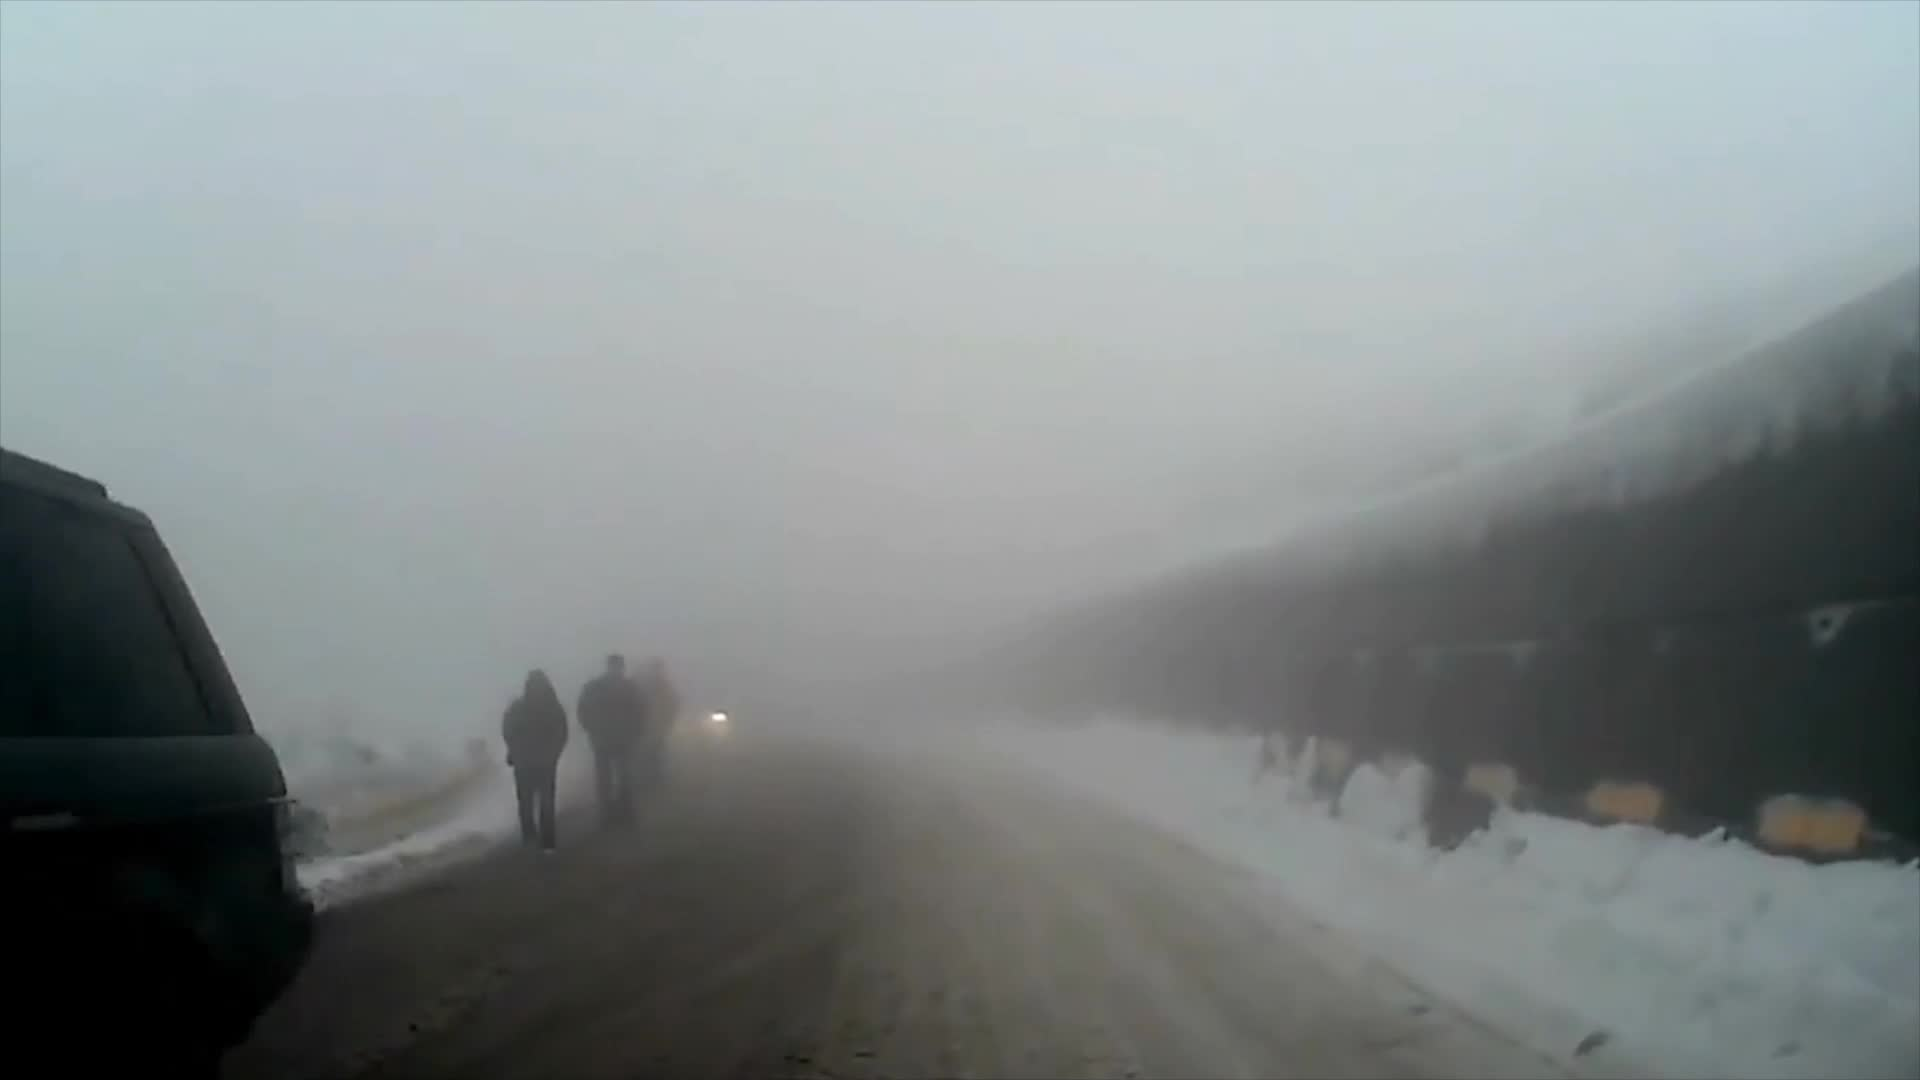pedestrian: (500, 671, 574, 855), (577, 651, 650, 832), (631, 655, 684, 820)
vehicle: (0, 444, 319, 1079)
